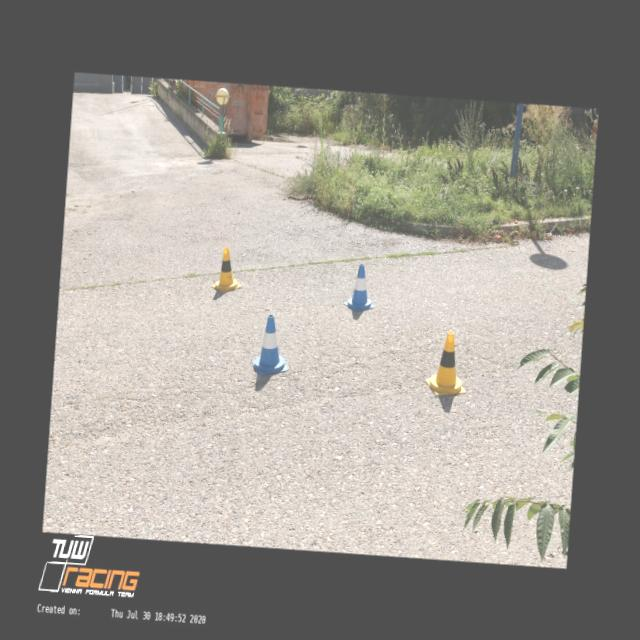blue_cone: (251, 313, 291, 376), (342, 262, 378, 313)
yellow_cone: (424, 329, 470, 396), (210, 246, 243, 294)
